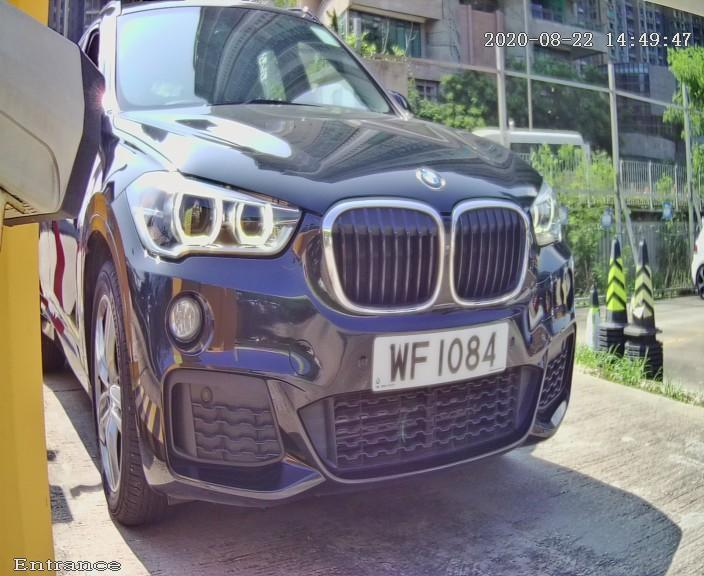Car: (19, 16, 610, 546)
License Plate: (345, 298, 531, 415)
